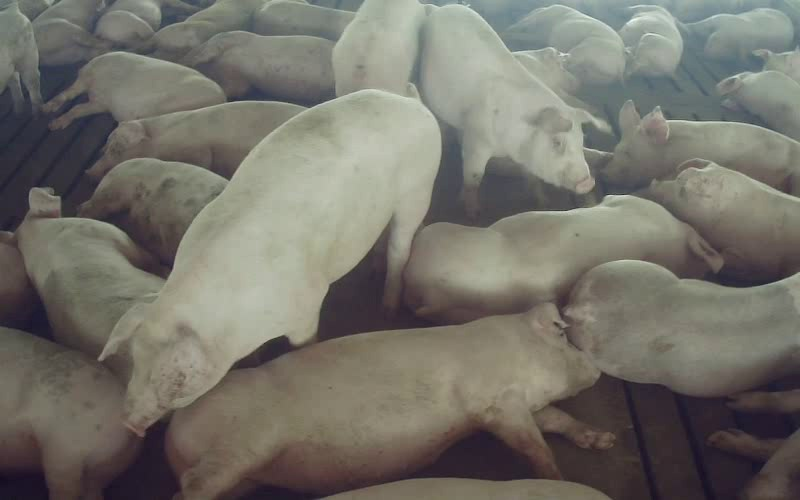pig: (101, 90, 440, 433), (166, 304, 611, 499), (404, 195, 722, 322), (563, 261, 799, 396), (639, 159, 799, 281), (605, 100, 799, 195), (87, 101, 304, 178), (78, 158, 227, 265), (42, 52, 225, 129), (182, 31, 334, 104), (503, 5, 625, 84), (332, 0, 425, 95), (686, 8, 793, 61), (717, 71, 799, 140), (94, 0, 201, 50), (32, 0, 110, 65), (619, 5, 682, 76), (253, 0, 354, 40)
